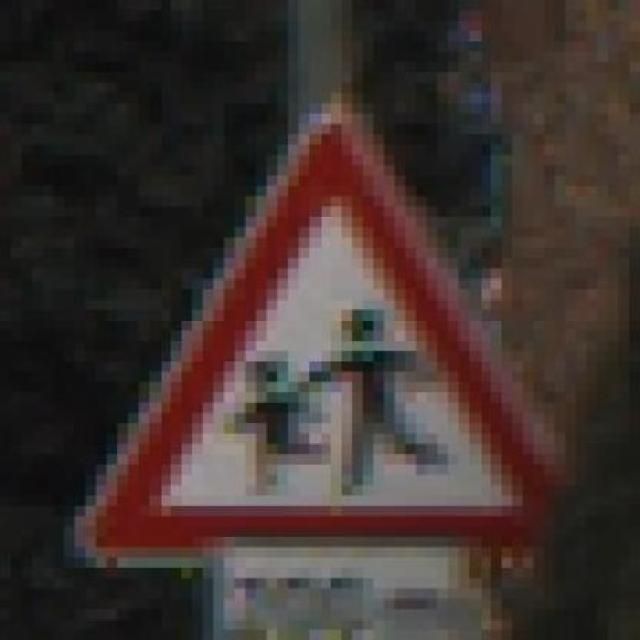Beware of children: (74, 93, 608, 589)
